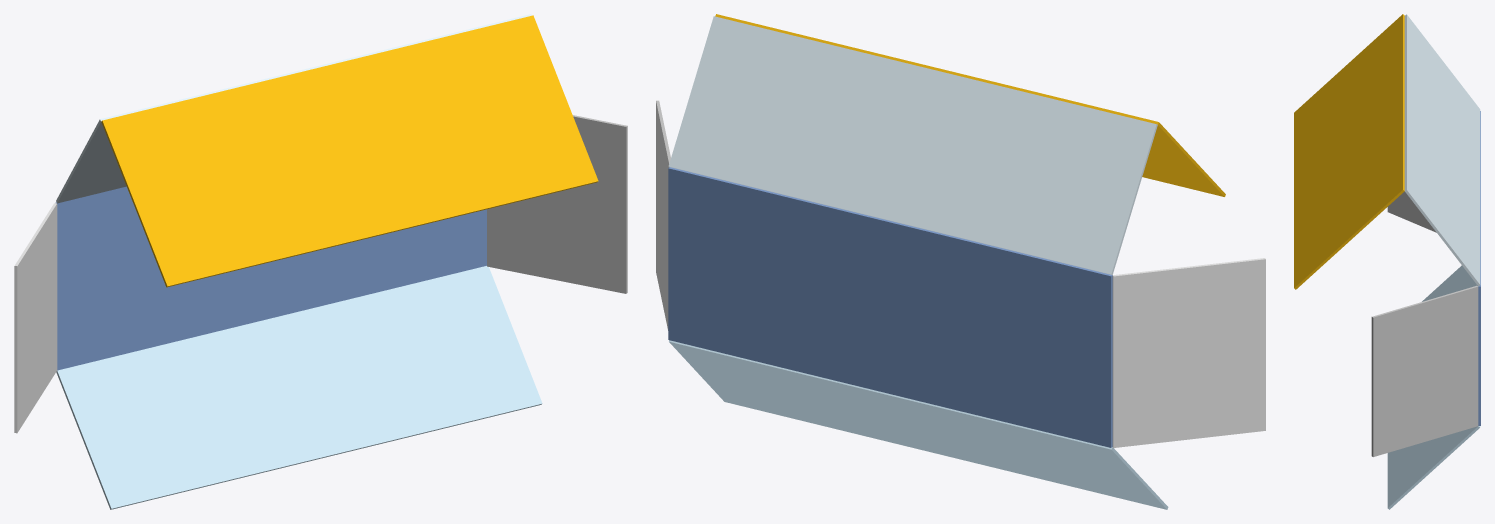
File: mallette_1.gltf
The picture shows the model from 3 angles, left to right: view 1: azimuth 30°, elevation 25°; view 2: azimuth 150°, elevation 25°; view 3: azimuth 270°, elevation 25°; orthographic projection. The views are drawn at different scales.
Parts seen in each view (by area): view 1: Part 6, Part 1, Part 3, Part 2, Part 4, Part 5; view 2: Part 3, Part 5, Part 4, Part 1, Part 6, Part 2; view 3: Part 6, Part 2, Part 5, Part 1, Part 4, Part 3.
Boxes of the visible parts, x1,y1,x2,y2 form: Part 6: [101, 15, 598, 287]; Part 1: [56, 266, 542, 509]; Part 3: [55, 186, 486, 370]; Part 2: [487, 115, 627, 293]; Part 4: [14, 203, 57, 433]; Part 5: [56, 14, 531, 203]; Part 3: [668, 167, 1112, 447]; Part 5: [668, 16, 1157, 274]; Part 4: [1112, 258, 1265, 447]; Part 1: [669, 340, 1168, 509]; Part 6: [715, 14, 1225, 196]; Part 2: [656, 100, 670, 330]; Part 6: [1294, 14, 1404, 289]; Part 2: [1371, 285, 1478, 456]; Part 5: [1404, 14, 1480, 286]; Part 1: [1387, 265, 1480, 509]; Part 4: [1387, 191, 1436, 232]; Part 3: [1478, 111, 1480, 425].
Bounding box in the file's own units: 1.13 × 0.6886 × 0.3641.
